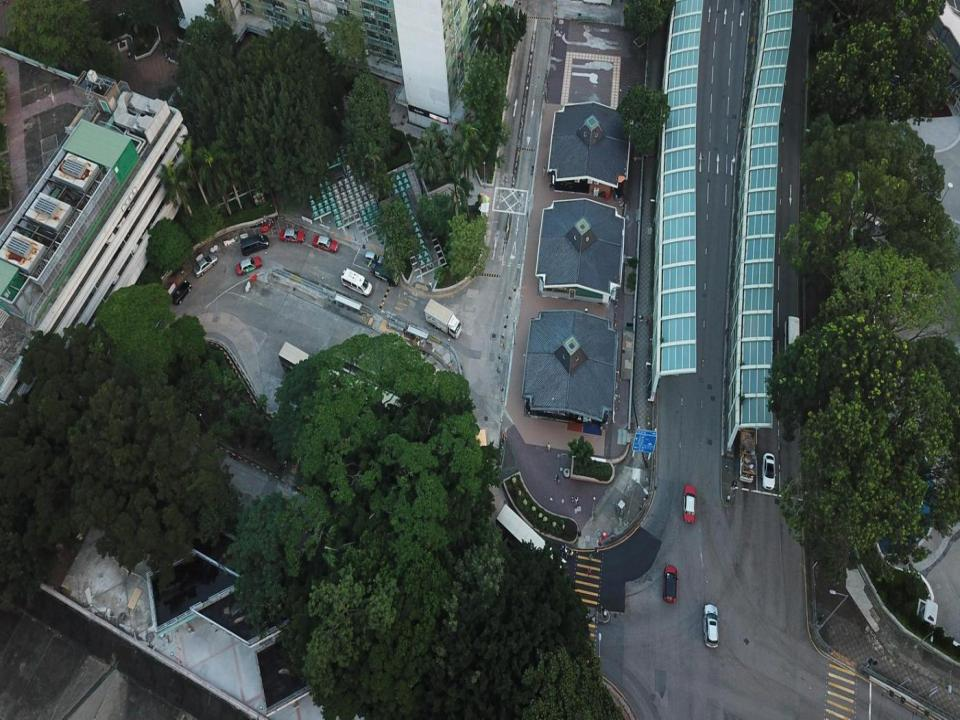bus: (332, 345, 421, 413), (495, 503, 568, 578), (278, 341, 344, 393), (784, 315, 800, 373)
car: (704, 603, 719, 648), (663, 564, 678, 603), (193, 253, 217, 277), (235, 256, 262, 275), (170, 280, 191, 304), (762, 452, 775, 490), (312, 235, 338, 252), (684, 485, 695, 524), (280, 228, 305, 243), (365, 250, 383, 266)
truck: (424, 299, 461, 338), (740, 428, 756, 483)
van: (341, 268, 372, 297), (371, 261, 400, 286), (240, 234, 269, 255)
